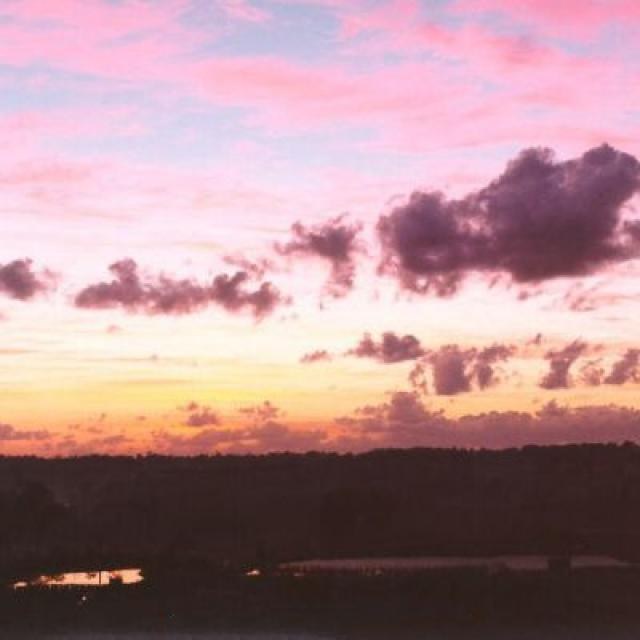Sc: (285, 133, 640, 317)
